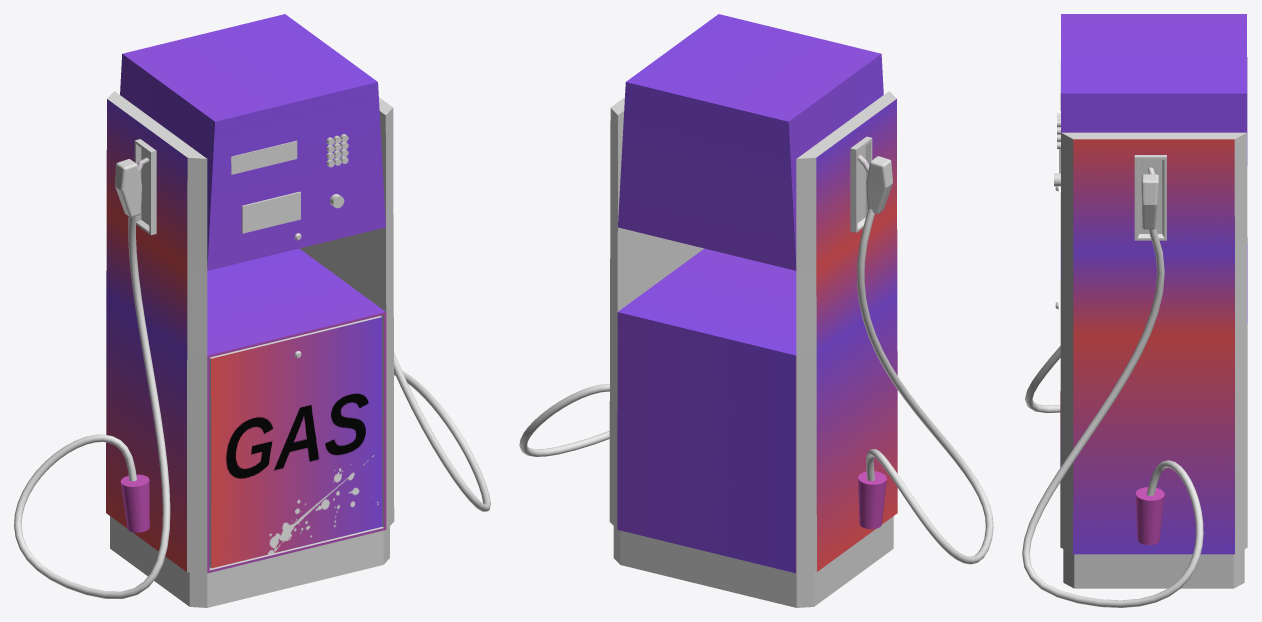
File: kolonka.fbx
The picture shows the model from 3 angles, left to right: view 1: azimuth 30°, elevation 25°; view 2: azimuth 150°, elevation 25°; view 3: azimuth 270°, elevation 25°; orthographic projection.
Visible parts, largest first — view 1: Kolonka, metal; view 2: Kolonka, metal; view 3: Kolonka, metal.
Boxes of the visible parts, x1=… form: Kolonka: x1=106, y1=14, x2=394, y2=607; metal: x1=14, y1=157, x2=490, y2=598; Kolonka: x1=609, y1=14, x2=897, y2=607; metal: x1=519, y1=155, x2=993, y2=564; Kolonka: x1=1054, y1=14, x2=1247, y2=588; metal: x1=1022, y1=167, x2=1203, y2=607.
Bounding box in the file's own units: 129 × 135 × 56.77.
